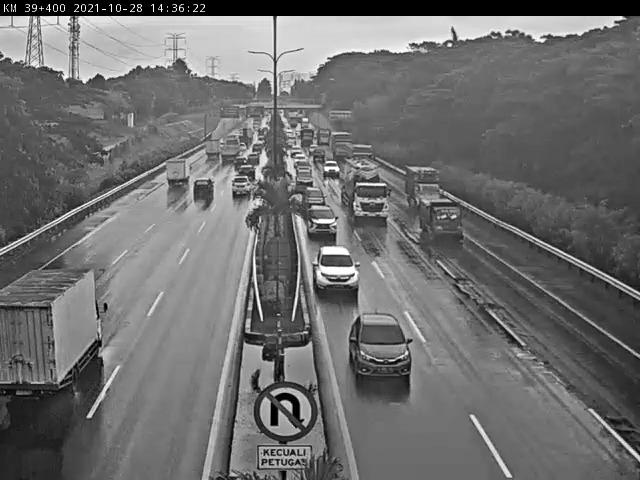big truck: (0, 263, 104, 398), (341, 155, 389, 222)
car: (348, 311, 414, 380), (312, 243, 363, 296), (306, 203, 340, 238), (301, 186, 327, 211), (229, 173, 253, 196), (190, 176, 214, 199), (295, 165, 314, 188), (321, 159, 341, 177), (236, 164, 257, 181), (232, 154, 250, 170)
small truck: (418, 197, 464, 242), (403, 163, 444, 212), (165, 159, 193, 186)
